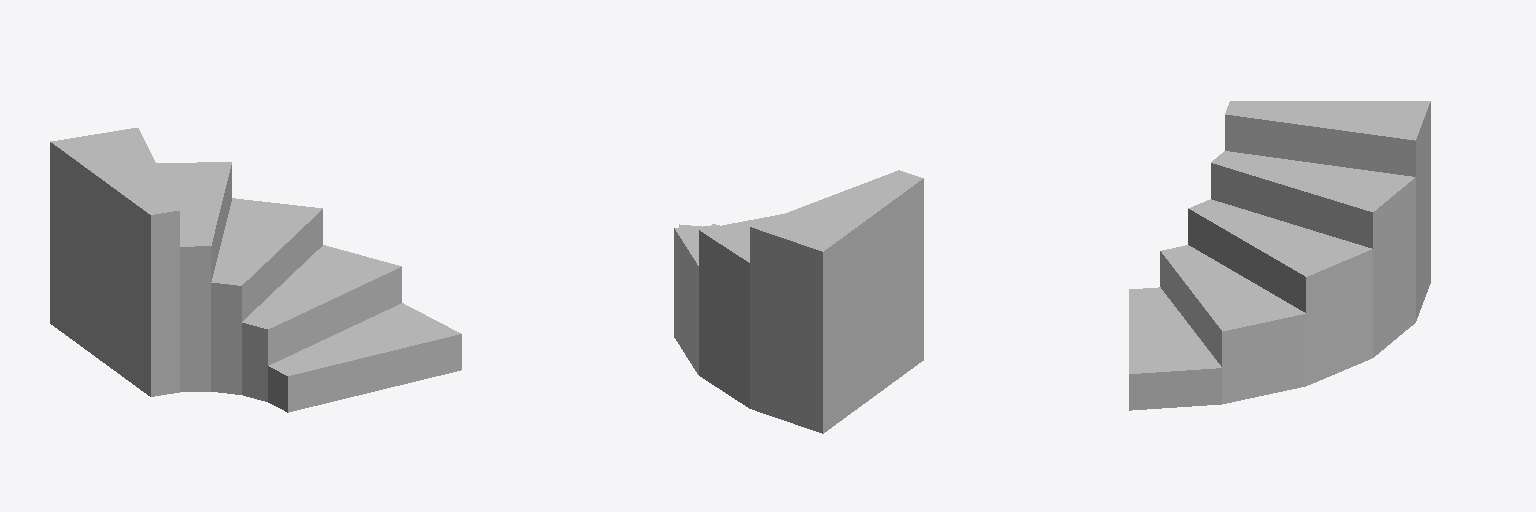
File: struct_large_curved_steps.obj
3 renders of one model, left to right at view 1: azimuth 30°, elevation 25°; view 2: azimuth 150°, elevation 25°; view 3: azimuth 270°, elevation 25°, orthographic.
Parts seen in each view (by area): view 1: struct_large_curved_steps; view 2: struct_large_curved_steps; view 3: struct_large_curved_steps.
Boxes of the visible parts, box(x1,y1,x2,y2) form: struct_large_curved_steps: box(50, 128, 461, 412); struct_large_curved_steps: box(674, 170, 923, 433); struct_large_curved_steps: box(1129, 101, 1430, 410).
Size of the model in its own units: 1.5 by 1 by 1.5.